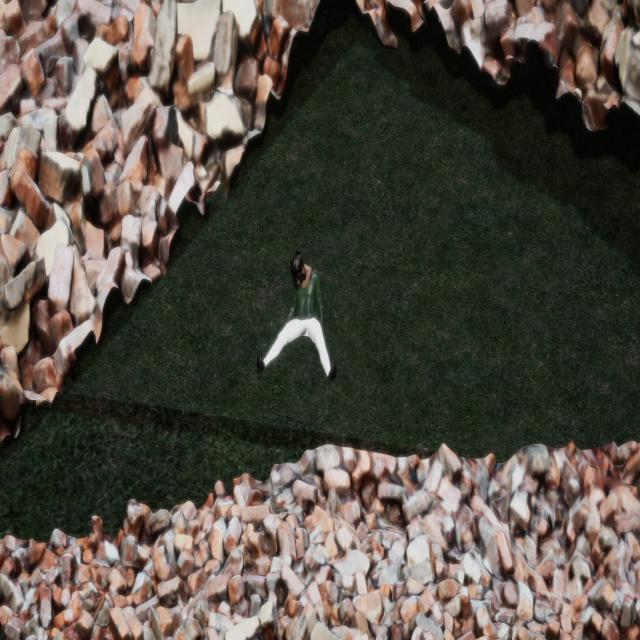Human: (252, 248, 344, 400)
